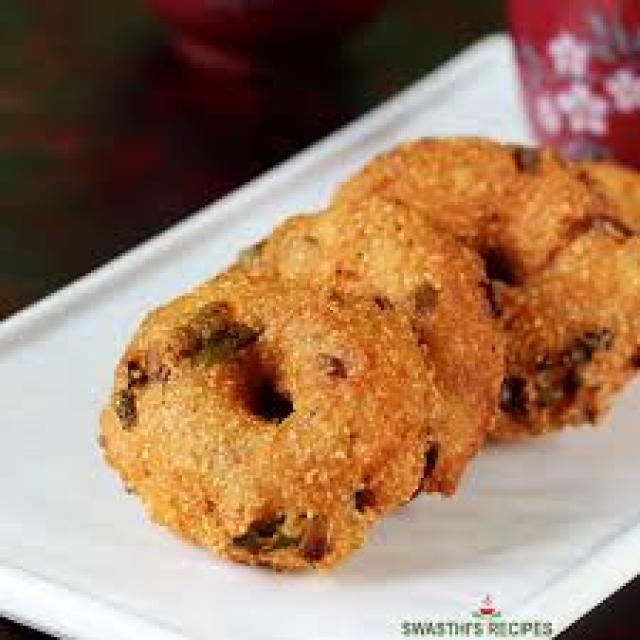MEDU VADA: (328, 143, 637, 450), (104, 286, 424, 571), (221, 205, 501, 493)
